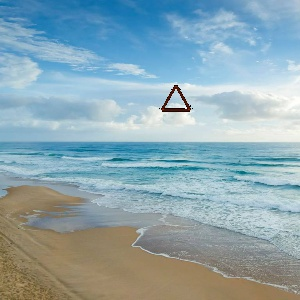triangle: (158, 82, 193, 114)
